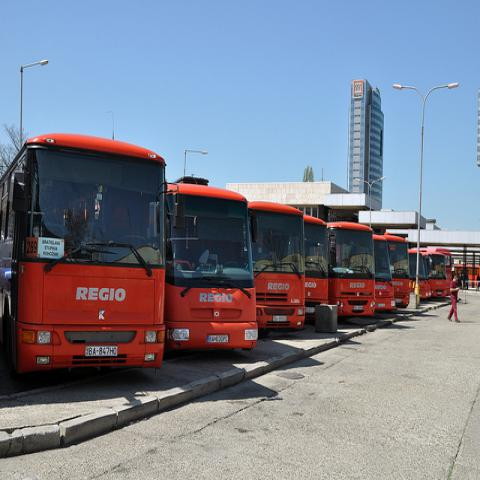bus: (1, 134, 169, 377), (168, 177, 258, 353), (250, 199, 305, 338), (326, 222, 375, 314), (303, 214, 329, 320), (386, 233, 412, 311), (373, 234, 395, 310), (423, 248, 452, 295), (420, 248, 447, 296), (408, 250, 433, 296), (452, 264, 479, 286)
